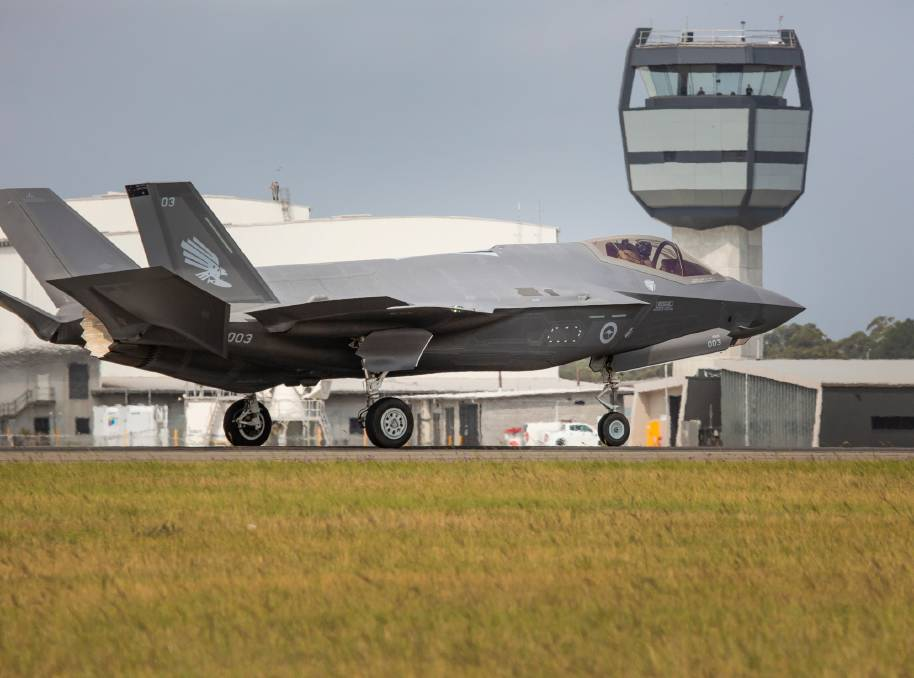F-35 Lightning: (5, 144, 819, 500)
